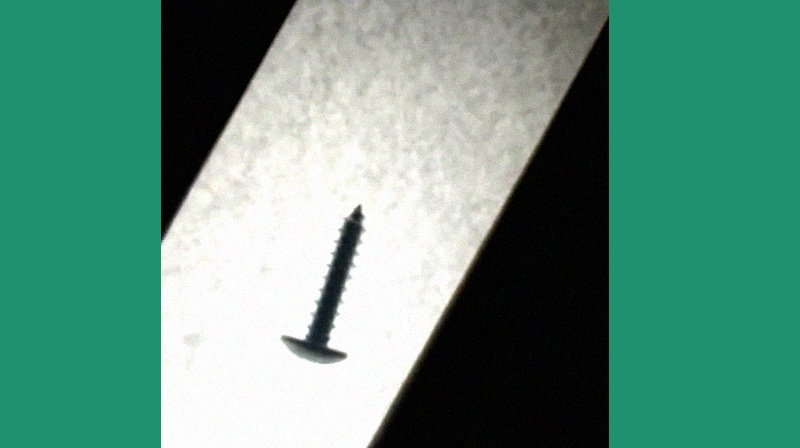S003: (277, 197, 368, 367)
